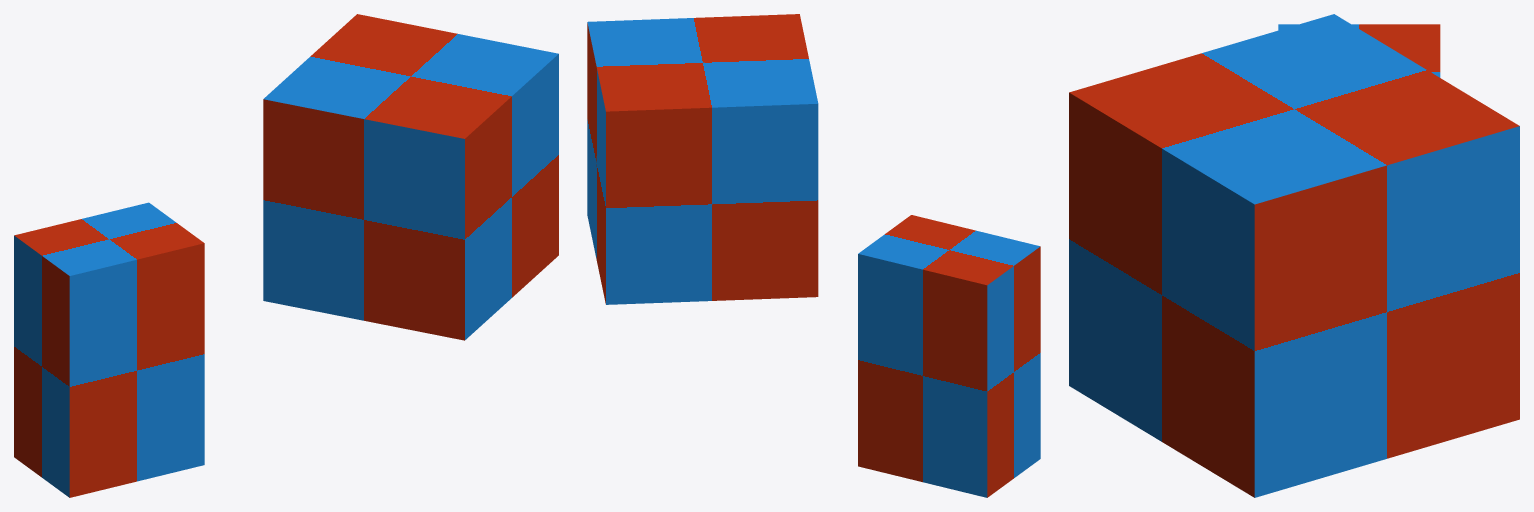
The model's file is StaticTextured.glb.
The picture shows the model from 3 angles, left to right: view 1: azimuth 30°, elevation 25°; view 2: azimuth 150°, elevation 25°; view 3: azimuth 270°, elevation 25°; orthographic projection. The views are drawn at different scales.
Visible parts, largest first — view 1: VisiblePart, LinkedPart; view 2: VisiblePart, LinkedPart; view 3: VisiblePart, LinkedPart.
Boxes of the visible parts, x1,y1,x2,y2 form: VisiblePart: [263, 14, 558, 340]; LinkedPart: [14, 202, 204, 497]; VisiblePart: [587, 14, 818, 304]; LinkedPart: [858, 215, 1040, 497]; VisiblePart: [1069, 14, 1519, 497]; LinkedPart: [1278, 24, 1440, 77].
Bounding box in the file's own units: 2.5 × 1.65 × 1.39.
1 material, 1 textured.
